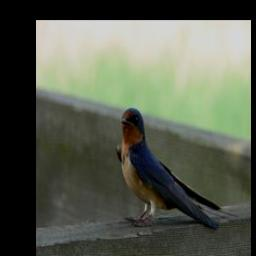Swallow: (115, 105, 240, 233)
